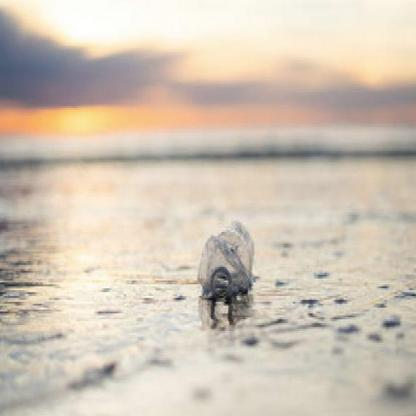plastic bottle: (199, 221, 256, 295)
